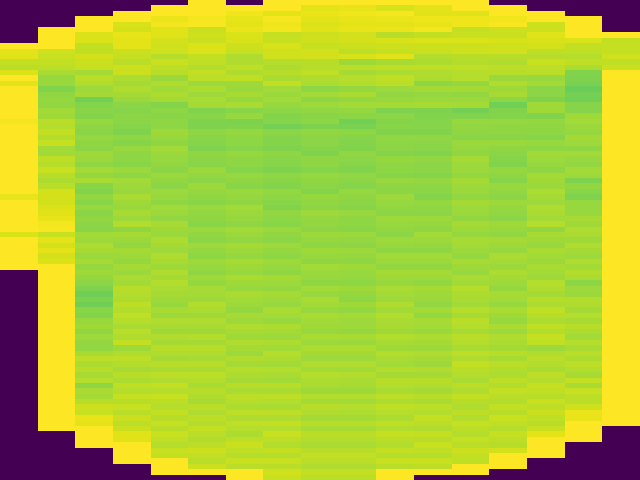cylinder: (4, 3, 640, 480)
